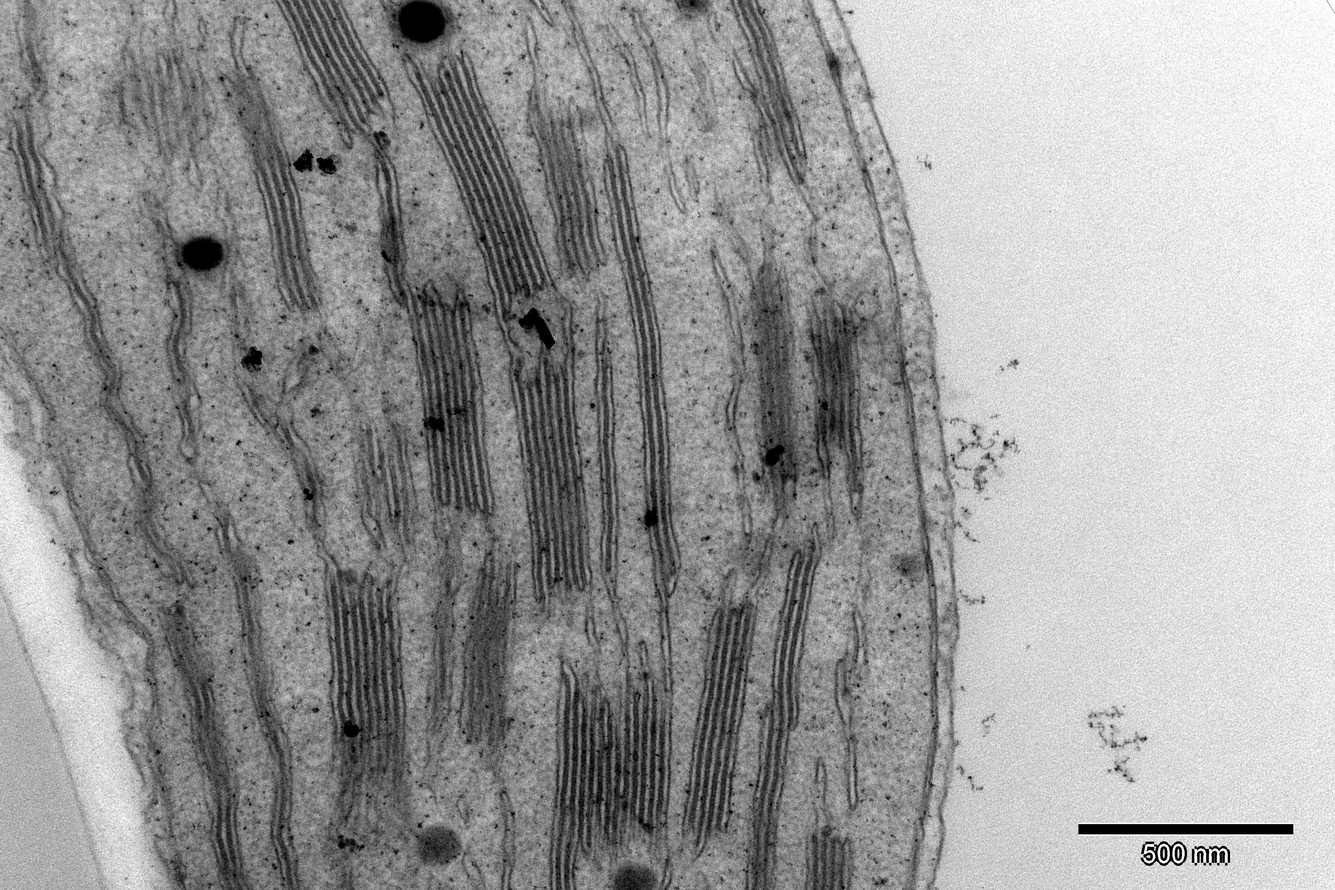granum: (406, 45, 558, 301), (598, 151, 686, 585), (212, 59, 330, 318), (150, 599, 255, 889), (543, 668, 676, 890), (742, 544, 826, 890), (386, 275, 497, 517), (316, 564, 413, 796), (507, 359, 597, 598), (678, 600, 760, 839), (272, 0, 394, 144), (522, 87, 612, 280), (3, 98, 91, 292), (728, 0, 813, 189), (743, 261, 809, 500), (453, 546, 522, 752), (108, 49, 221, 151), (801, 297, 867, 456), (349, 409, 424, 538), (245, 396, 317, 466), (801, 827, 855, 890)
